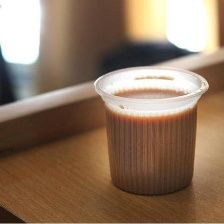glass: (93, 58, 212, 199)
